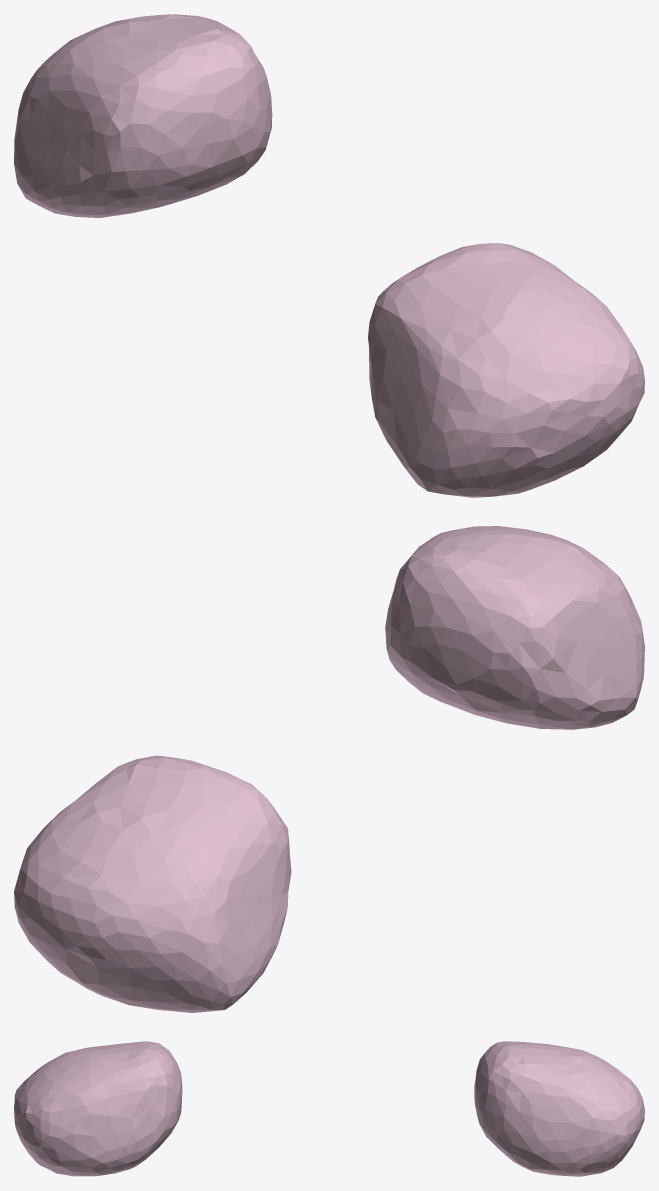
3 renders of one model, top to bottom at view 1: azimuth 30°, elevation 25°; view 2: azimuth 150°, elevation 25°; view 3: azimuth 270°, elevation 25°, orthographic. The views are drawn at different scales.
Parts seen in each view (by area): view 1: 661.obj; view 2: 661.obj; view 3: 661.obj.
Boxes of the visible parts, <box> form: 661.obj: <box>14,14,644,497</box>; 661.obj: <box>14,526,644,1012</box>; 661.obj: <box>14,1041,644,1176</box>.
Size of the model in its own units: 966 by 780 by 3720.
